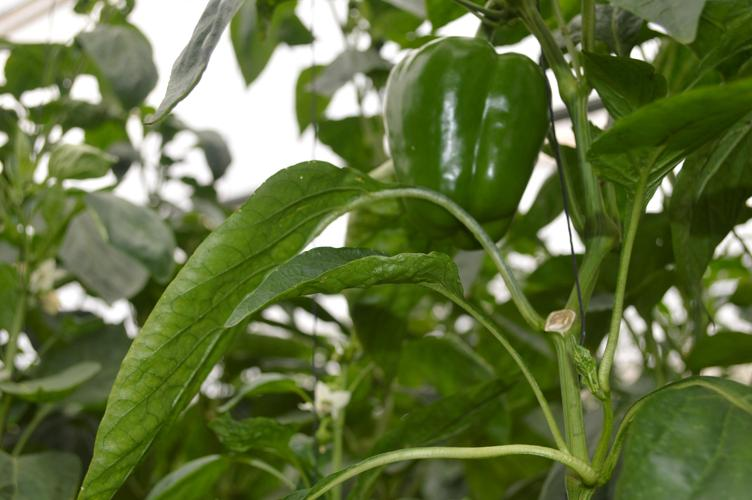BellPepper: (380, 35, 546, 251)
